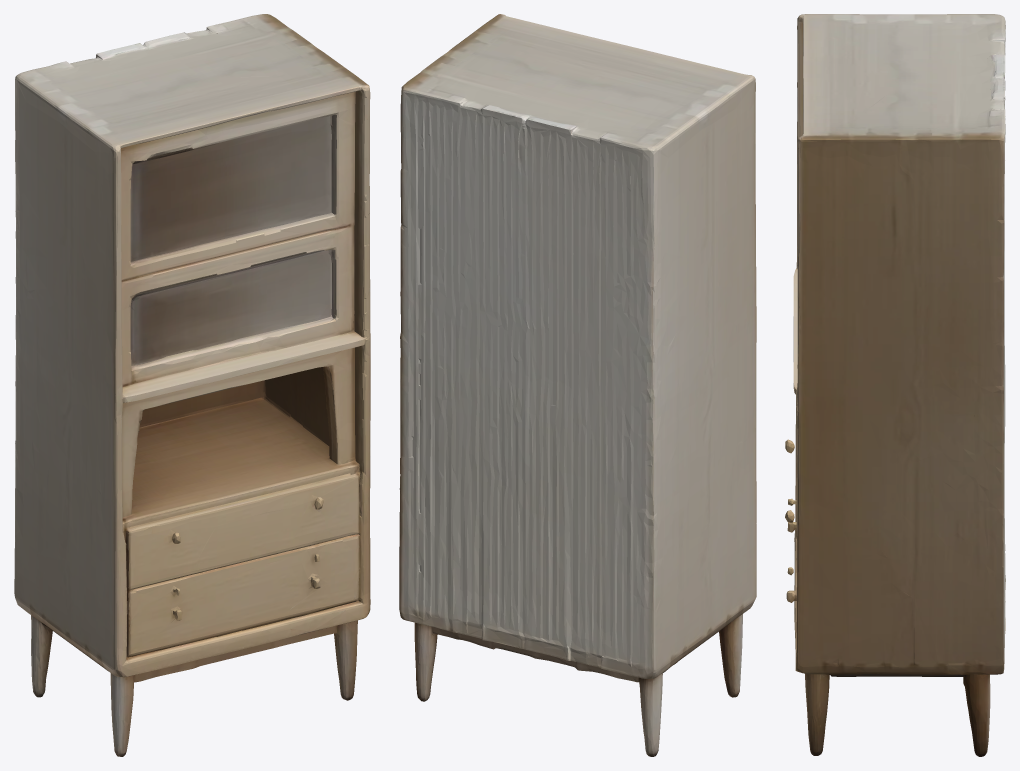
Rendered from ast_f2ff866b688a.glb.
The picture shows the model from 3 angles, left to right: view 1: azimuth 30°, elevation 25°; view 2: azimuth 150°, elevation 25°; view 3: azimuth 270°, elevation 25°; orthographic projection.
Parts seen in each view (by area): view 1: geometry_0; view 2: geometry_0; view 3: geometry_0.
Boxes of the visible parts, x1,y1,x2,y2 form: geometry_0: (14,14,370,756); geometry_0: (399,14,756,756); geometry_0: (785,14,1005,756).
Bounding box in the file's own units: 0.4348 × 1 × 0.3206.
1 material, 1 textured.
